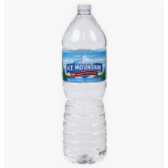Bottle: (62, 4, 111, 163)
